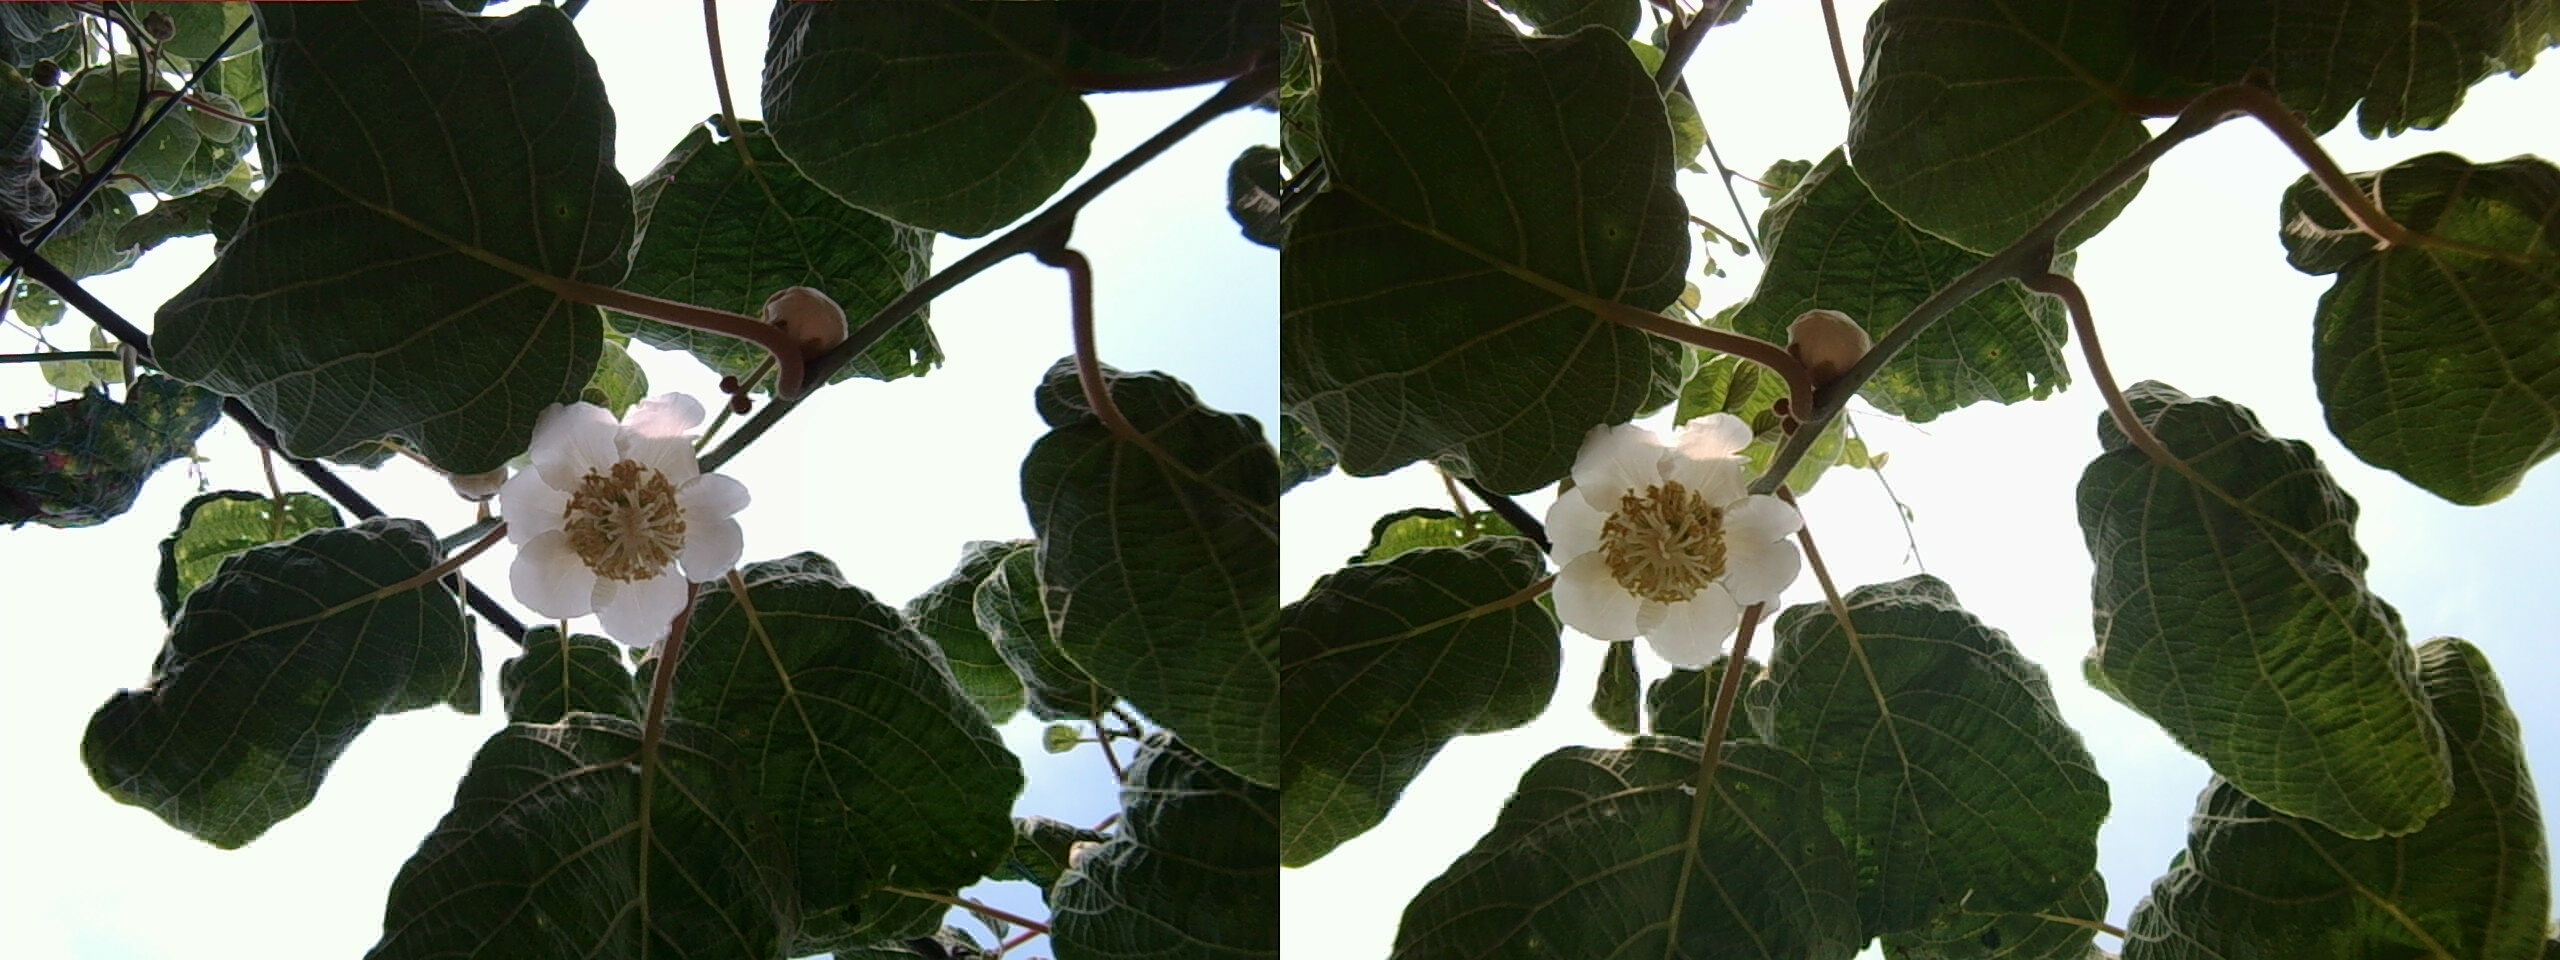flower: (1543, 403, 1796, 663), (493, 384, 748, 640)
